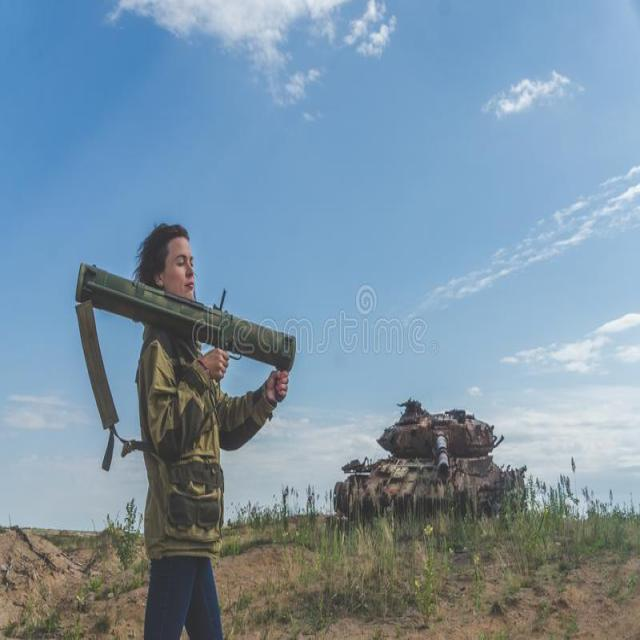bazooka: (70, 256, 301, 385)
